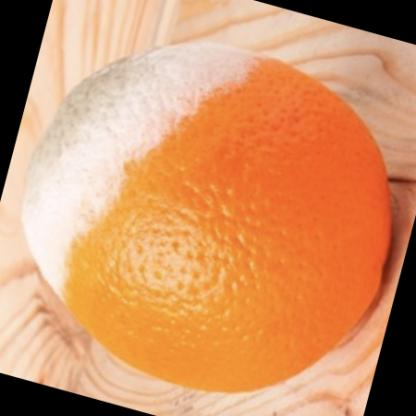rotten: (24, 44, 395, 396)
